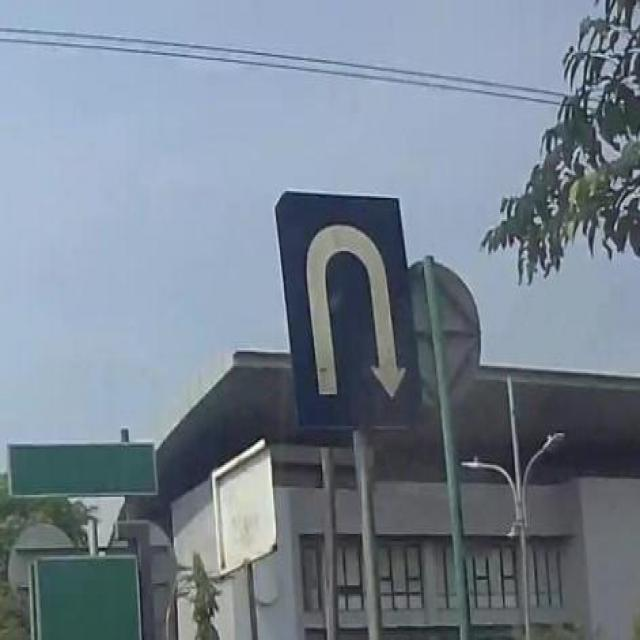traffic sign: (273, 191, 424, 419)
